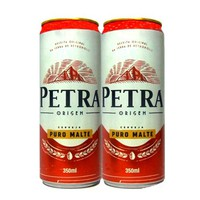petra: (36, 15, 167, 190)
